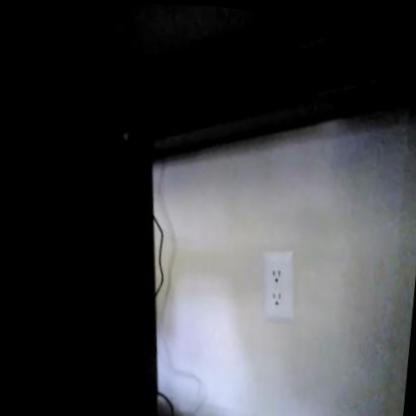OUTLET: (258, 249, 299, 320)
